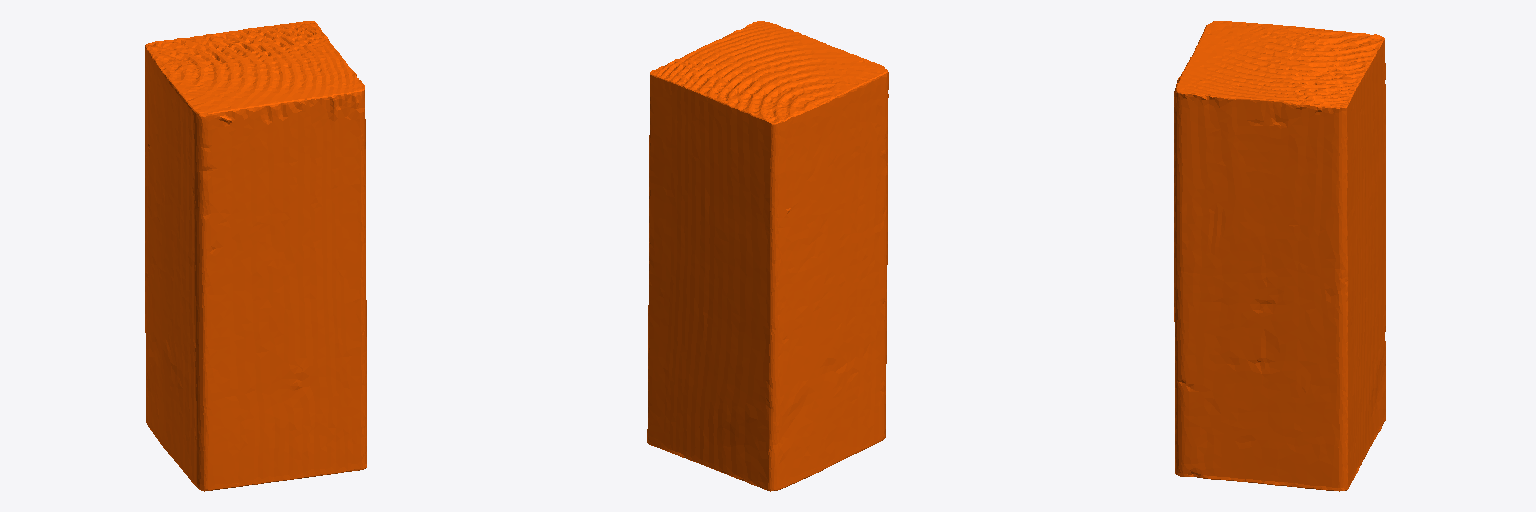
robot.urdf — 036_wood_block:
<?xml version="1.0" ?>
<robot name="036_wood_block">
   <material name="obj_color">
      <color rgba="1.0 0.423529411765 0.0392156862745 1.0"/>
   </material>
   <link name="top">
      <inertial>
         <origin rpy="0.003966102342108416 0.01273370515386744 0.01280238688691574" xyz="-0.001565743157917975 -0.001020295908366868 -0.02258950237178328"/>
         <mass value="3.093940109514685"/>
         <inertia ixx="0.01274376416441315" ixy="2.446311079307775e-05" ixz="6.443805454350865e-05" iyy="0.01279168534445947" iyz="3.885484048540337e-05" izz="0.003966744874018978"/>
      </inertial>
      <visual>
         <origin rpy="0 0 0" xyz="0 0 0"/>
         <geometry>
            <mesh filename="top_watertight_tiny.stl" scale="1 1 1"/>
         </geometry>
         <material name="obj_color"/>
      </visual>
      <collision>
         <origin rpy="0 0 0" xyz="0 0 0"/>
         <geometry>
            <mesh filename="top_watertight_tiny.obj" scale="1 1 1"/>
         </geometry>
      </collision>
   </link>
   <link name="bottom">
      <inertial>
         <origin rpy="1.633333333199431e-08 1.633333333199431e-08 1.633333333362855e-08" xyz="0.3464080000000008 0.3464080000000008 0.3464080000000008"/>
         <mass value="0.0009800000000000017"/>
         <inertia ixx="1.633333333253906e-08" ixy="5.447480642029219e-19" ixz="5.447480642029219e-19" iyy="1.633333333253906e-08" iyz="5.447480642029219e-19" izz="1.633333333253906e-08"/>
      </inertial>
      <visual>
         <origin rpy="0 0 0" xyz="0 0 0"/>
         <geometry>
            <mesh filename="bottom_watertight_tiny.stl" scale="1 1 1"/>
         </geometry>
         <material name="obj_color"/>
      </visual>
   </link>
   <link name="world"/>
   <joint name="world_to_base" type="fixed">
      <origin xyz="0 0 0"/>
      <axis xyz="0 0 0"/>
      <parent link="world"/>
      <child link="bottom"/>
   </joint>
   <joint name="rotation" type="revolute">
      <origin xyz="0 0 0"/>
      <axis xyz="0 0 -1"/>
      <parent link="bottom"/>
      <child link="top"/>
      <dynamics damping="1.0" friction="1.0"/>
      <limit effort="0.1" velocity="0.1" lower="0" upper="0.001"/>
   </joint>
</robot>

--- Facts derived from the render (not from the file) ---
Views: 3 orthographic renders of the robot side by side, from view 1: azimuth 30°, elevation 25°; view 2: azimuth 150°, elevation 25°; view 3: azimuth 270°, elevation 25°.
Model 036_wood_block with 3 links and 2 joints (1 revolute, 1 fixed), rooted at world, posed every joint at zero.
Links seen in each view (by area): view 1: top; view 2: top; view 3: top.
Boxes of the visible links, x1=… form: top: x1=145, y1=21, x2=366, y2=491; top: x1=647, y1=21, x2=888, y2=491; top: x1=1174, y1=21, x2=1385, y2=491.
Size in the robot's own frame: 0.1039 by 0.1035 by 0.206 metres.
1 mesh visuals loaded from 2 distinct referenced files (1 binary STL); not drawn: 1 (reference not matched to a file when rendering).
